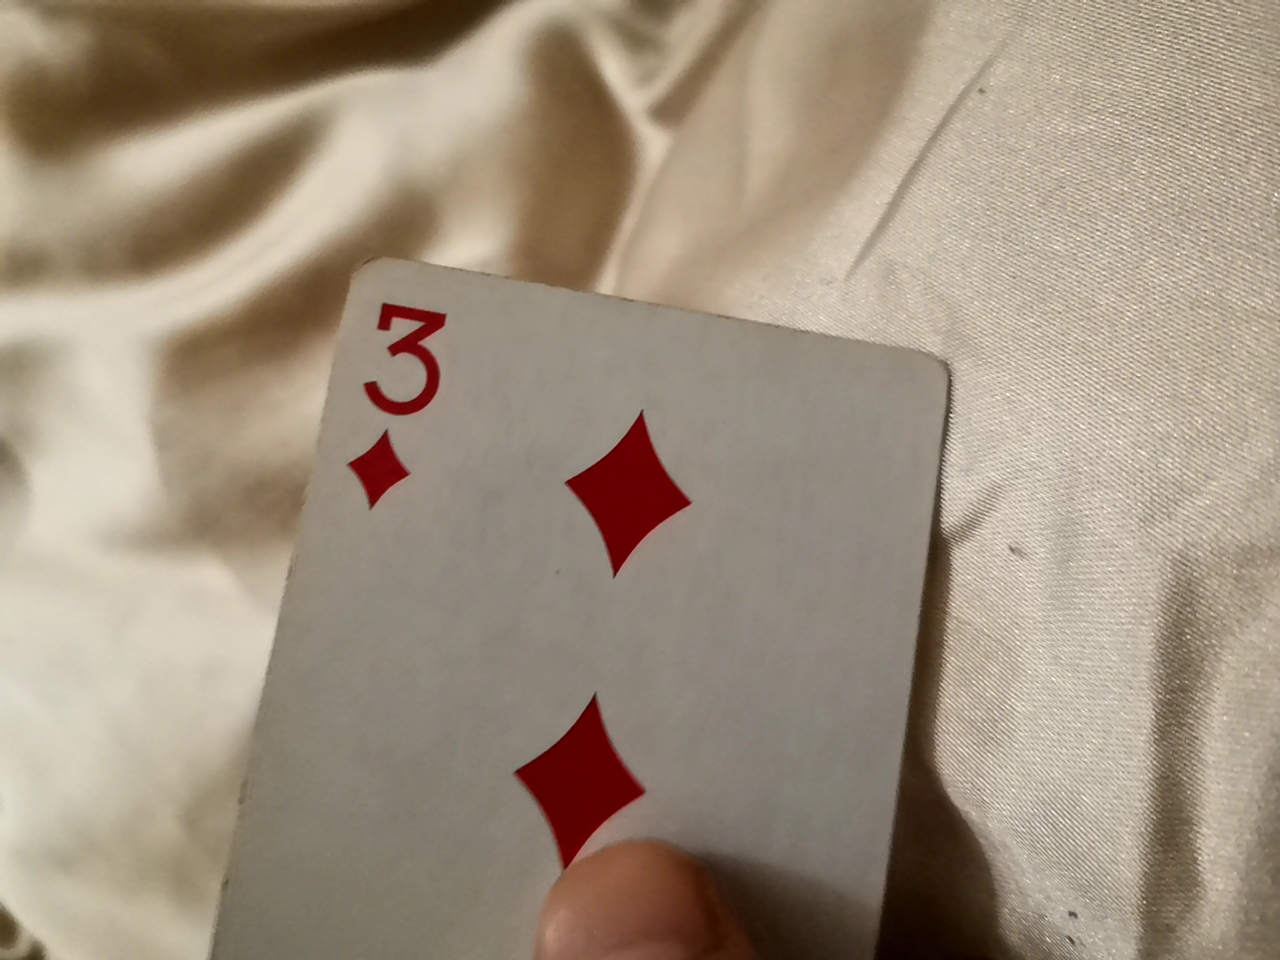fk 3: (185, 226, 1005, 951)
